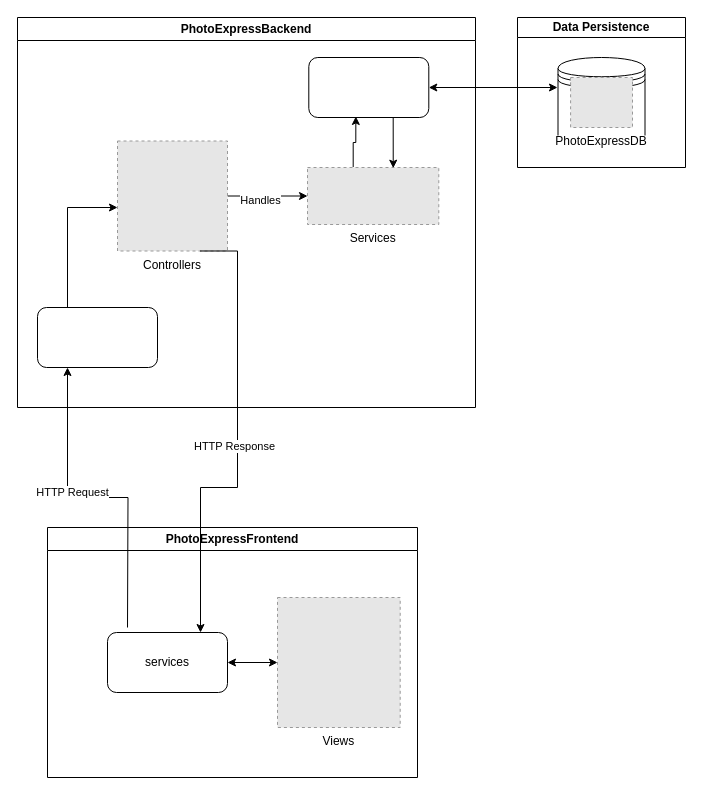
This 703x795 diagram has some shape labels left out. Grey dashed boxes stand in for pictures. The shapes that lost their labels are listed below. From the top down, each one's centre as x and y in pixels, then its label:
At [368,87]: "Models".
At [97,337]: "Routes".
